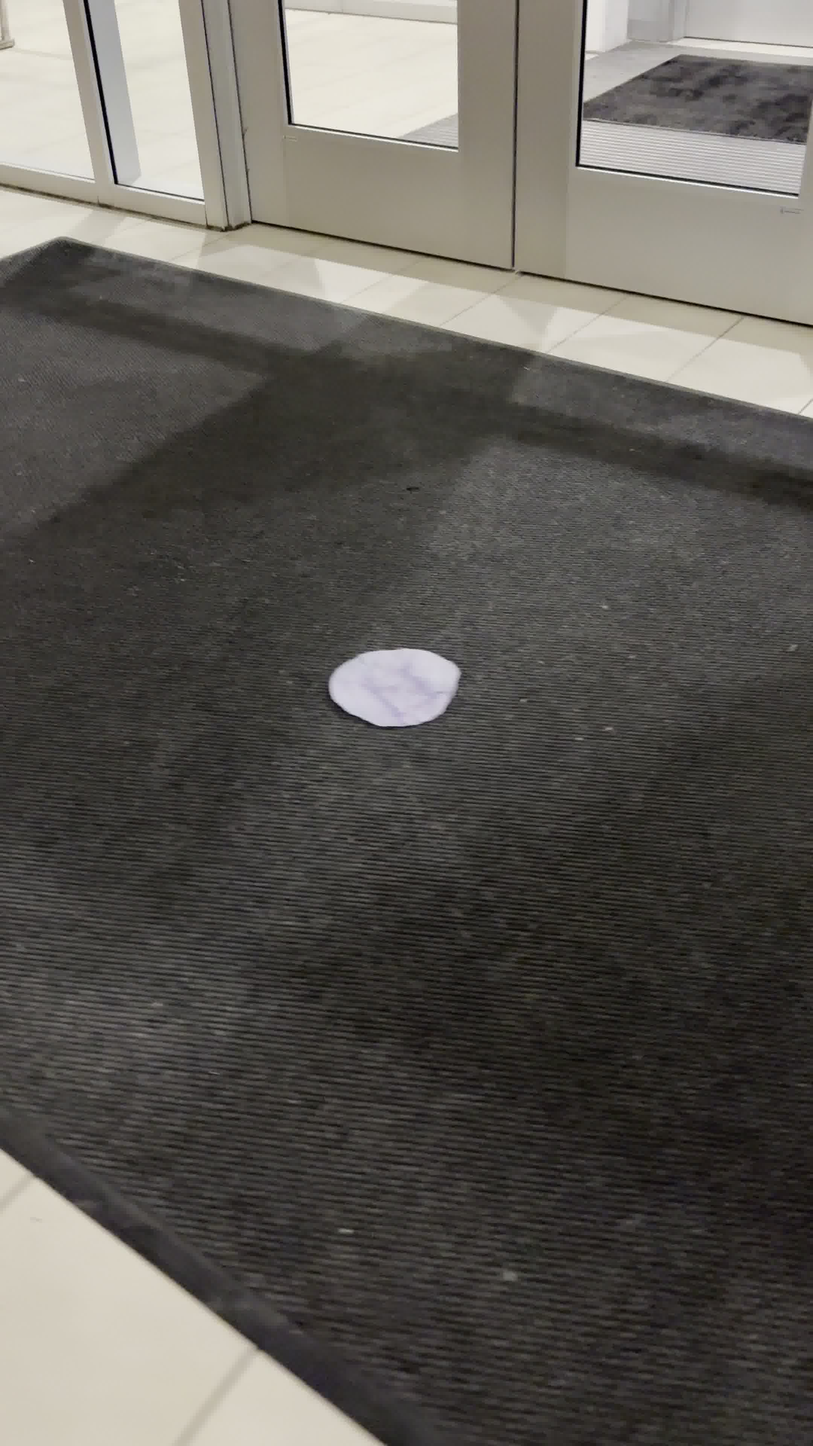Target: (328, 648, 461, 727)
